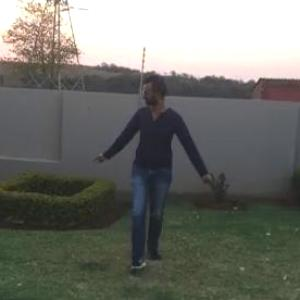land: (75, 64, 235, 287)
